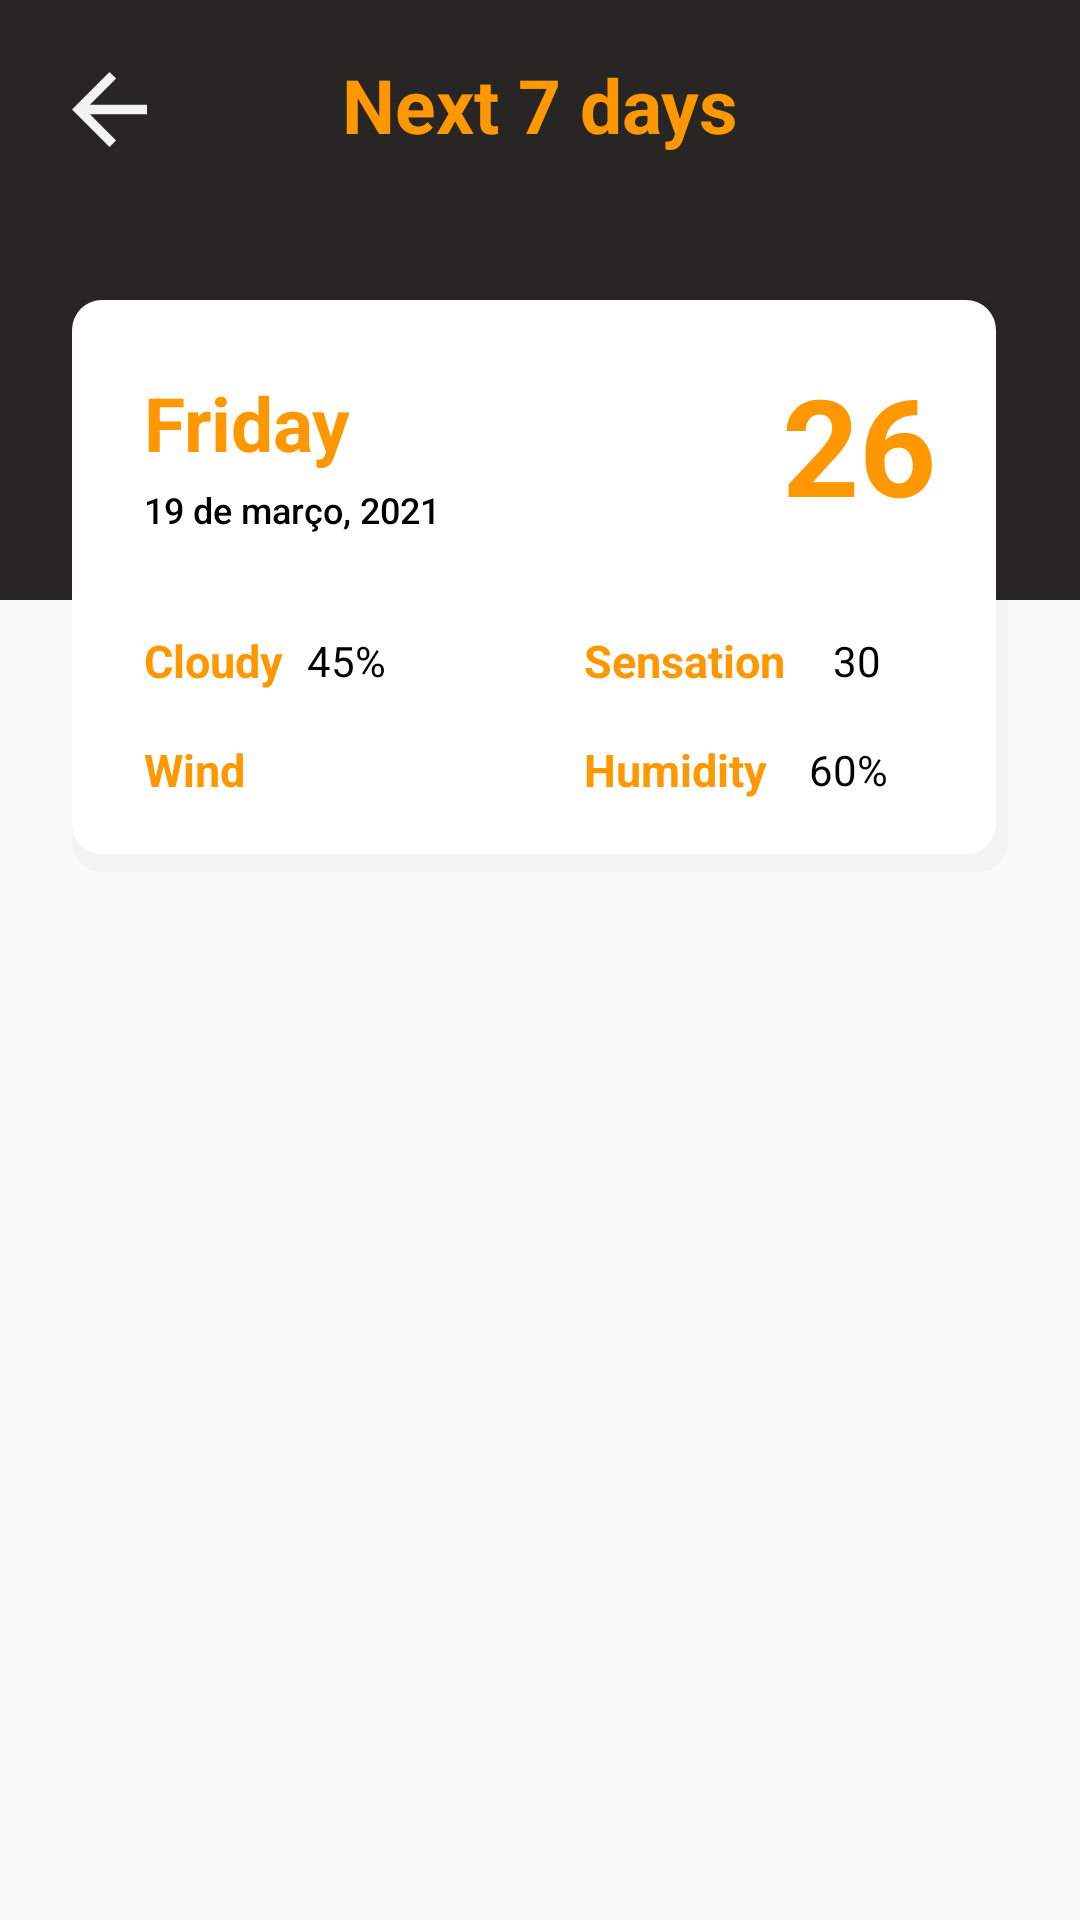

Icons on this 1080 x 1920 Android screen, each with the point to tap as point (x, y):
arrow back: point (109, 109)
